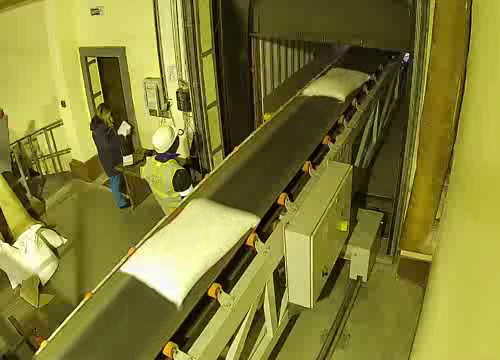bag: (106, 194, 268, 313), (296, 63, 380, 105)
